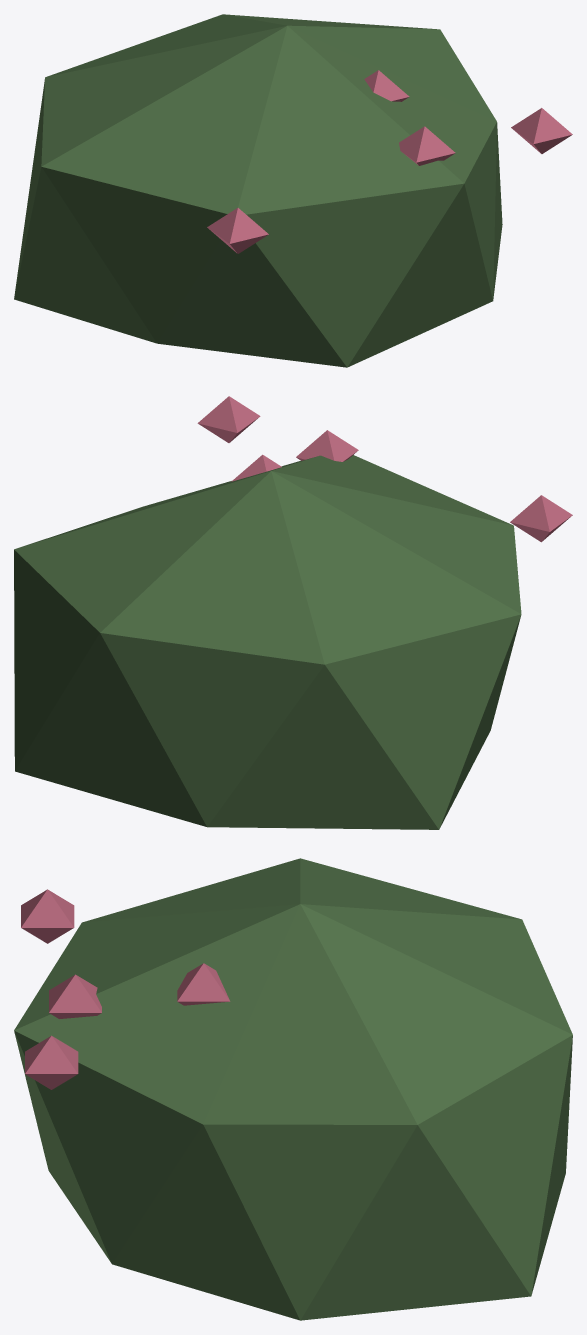
Rendered from bush.glb.
3 views of the same model, one above another, from view 1: azimuth 30°, elevation 25°; view 2: azimuth 150°, elevation 25°; view 3: azimuth 270°, elevation 25° (orthographic). The views are drawn at different scales.
Visible parts, largest first — view 1: bush; view 2: bush; view 3: bush.
Part boxes in pixels (left/top/right/bottom): bush: left=14, top=14, right=572, bottom=367; bush: left=14, top=396, right=572, bottom=829; bush: left=14, top=858, right=572, bottom=1320.
Size of the model in its own units: 0.8271 by 0.4469 by 0.7427.
